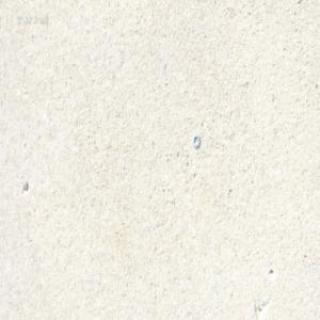Washertrack_idkeyframe: (191, 132, 199, 148)
